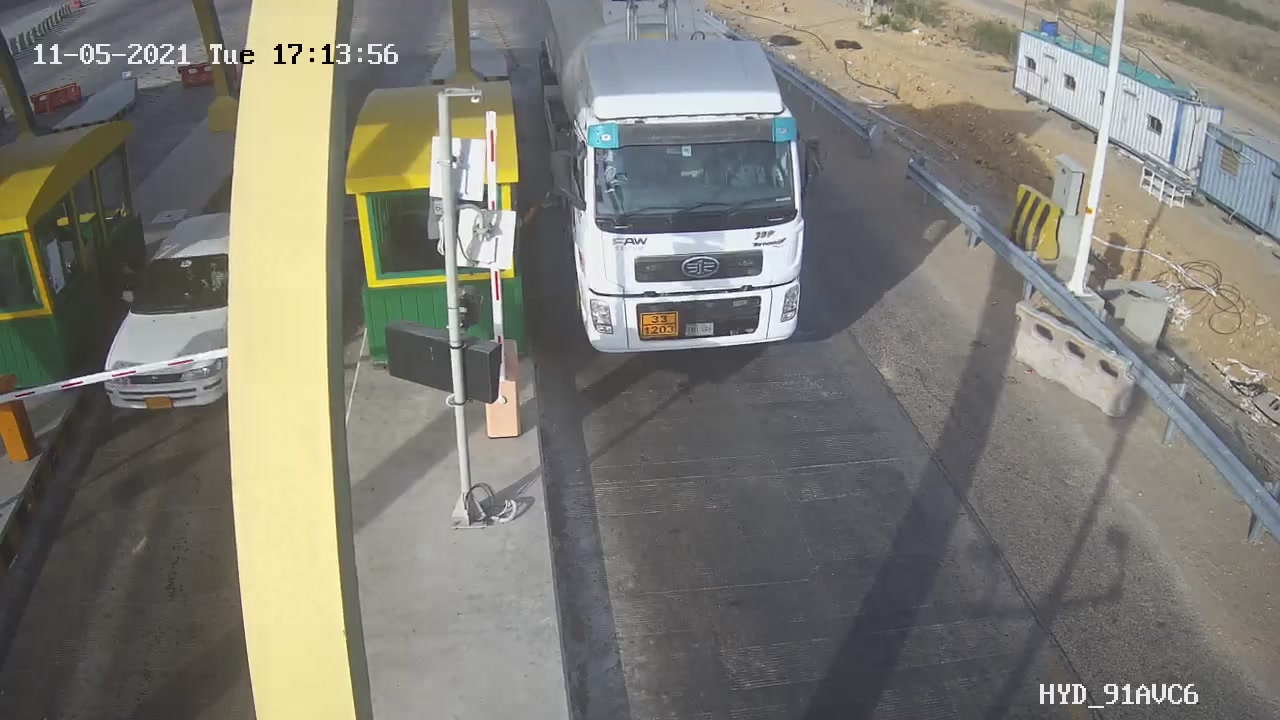F6: (520, 3, 846, 381)
